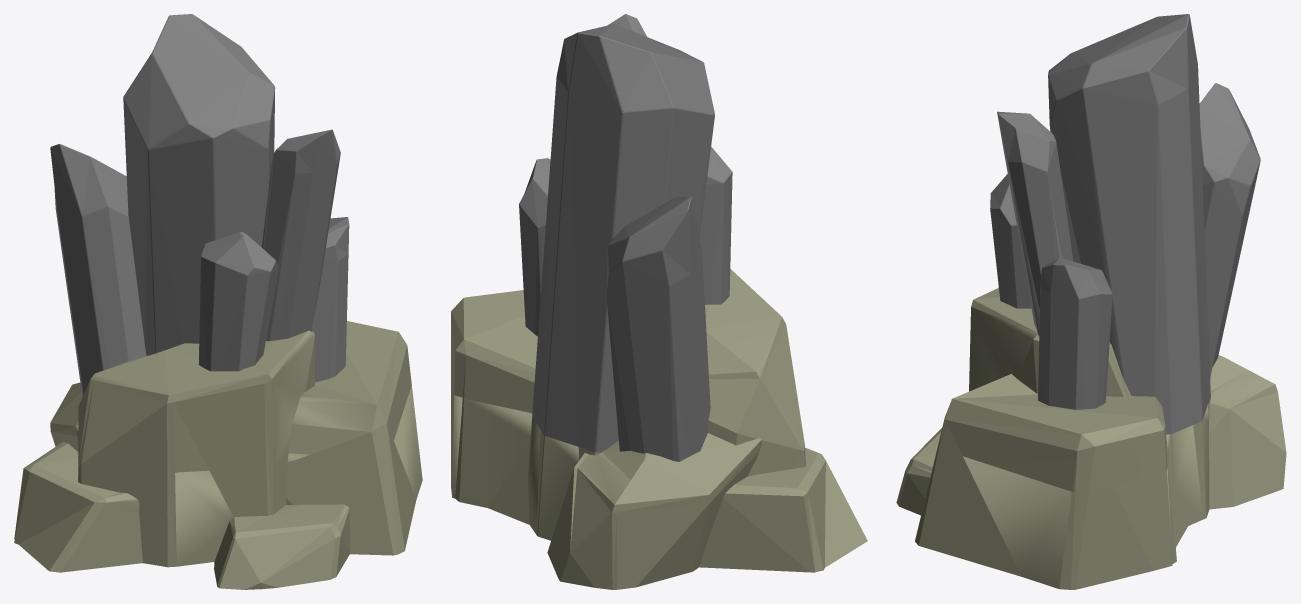
File: shuijingkuang.fbx
The picture shows the model from 3 angles, left to right: view 1: azimuth 30°, elevation 25°; view 2: azimuth 150°, elevation 25°; view 3: azimuth 270°, elevation 25°; orthographic projection. The views are drawn at different scales.
Visible parts, largest first — view 1: shuijingkuang; view 2: shuijingkuang; view 3: shuijingkuang.
Part boxes in pixels (<box>): shuijingkuang: <box>14,14,422,589</box>; shuijingkuang: <box>451,14,867,589</box>; shuijingkuang: <box>896,14,1286,589</box>.
Bounding box in the file's own units: 2.21 × 2.62 × 1.93.
